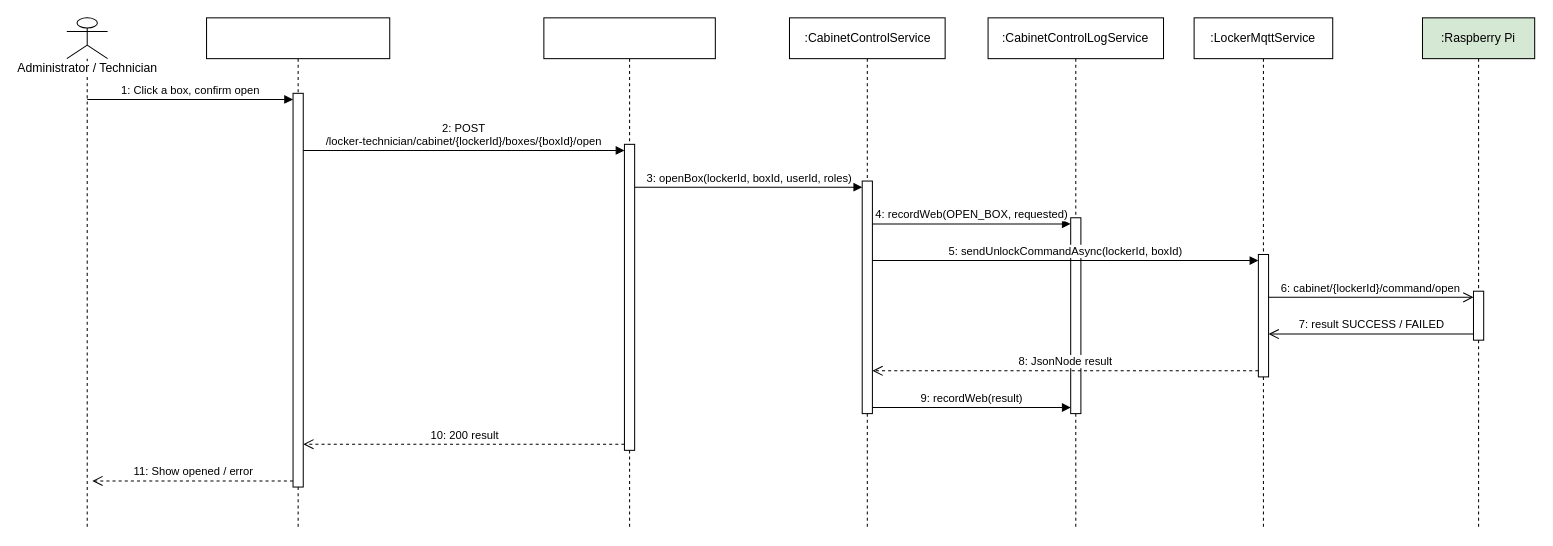
Image size: 1553x546. Some labels were removed from this diagram. Here are the shapes that lost their labels. From the top down, the box of each, then its label:
(206, 17, 390, 528): :Cabinet Control (Web / App)
(543, 17, 715, 528): :CabinetControlController
